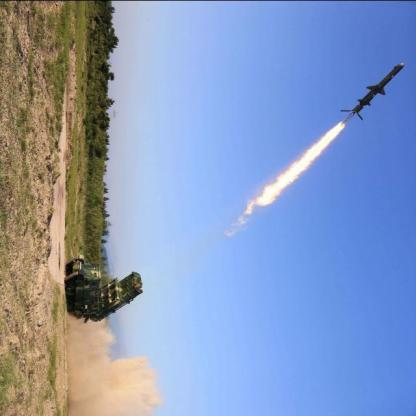MIL_TBM: (340, 58, 405, 119)
